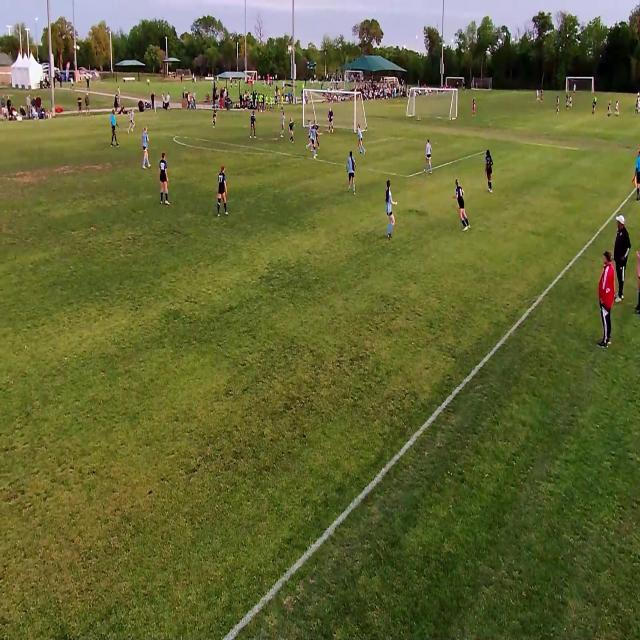ball: (315, 154, 319, 158)
team1: (455, 180, 470, 230), (158, 150, 170, 204), (218, 165, 230, 218), (484, 146, 494, 194), (249, 109, 257, 140), (290, 116, 296, 143), (212, 106, 218, 129)
team2: (384, 177, 396, 241), (140, 125, 150, 169), (347, 151, 357, 194), (426, 139, 435, 175), (359, 120, 367, 154), (127, 108, 136, 136), (280, 110, 287, 140), (306, 119, 312, 153), (312, 125, 317, 158), (615, 99, 620, 117)
